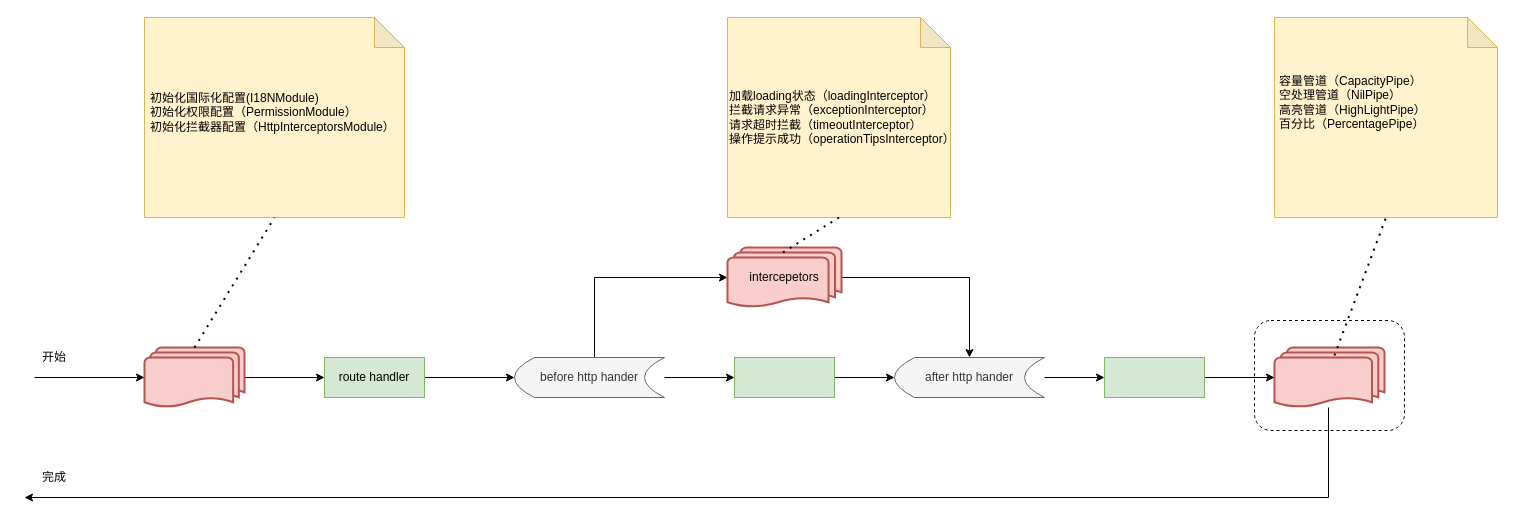
Image size: 1515x523. Some labels were removed from this diagram. The box of each missing label's shape, as (x1, y1, x2, y2) in pixels:
http handler: (734, 356, 834, 398)
Initializers: (143, 346, 245, 408)
page render: (1104, 356, 1204, 398)
pipe: (1273, 346, 1385, 408)
